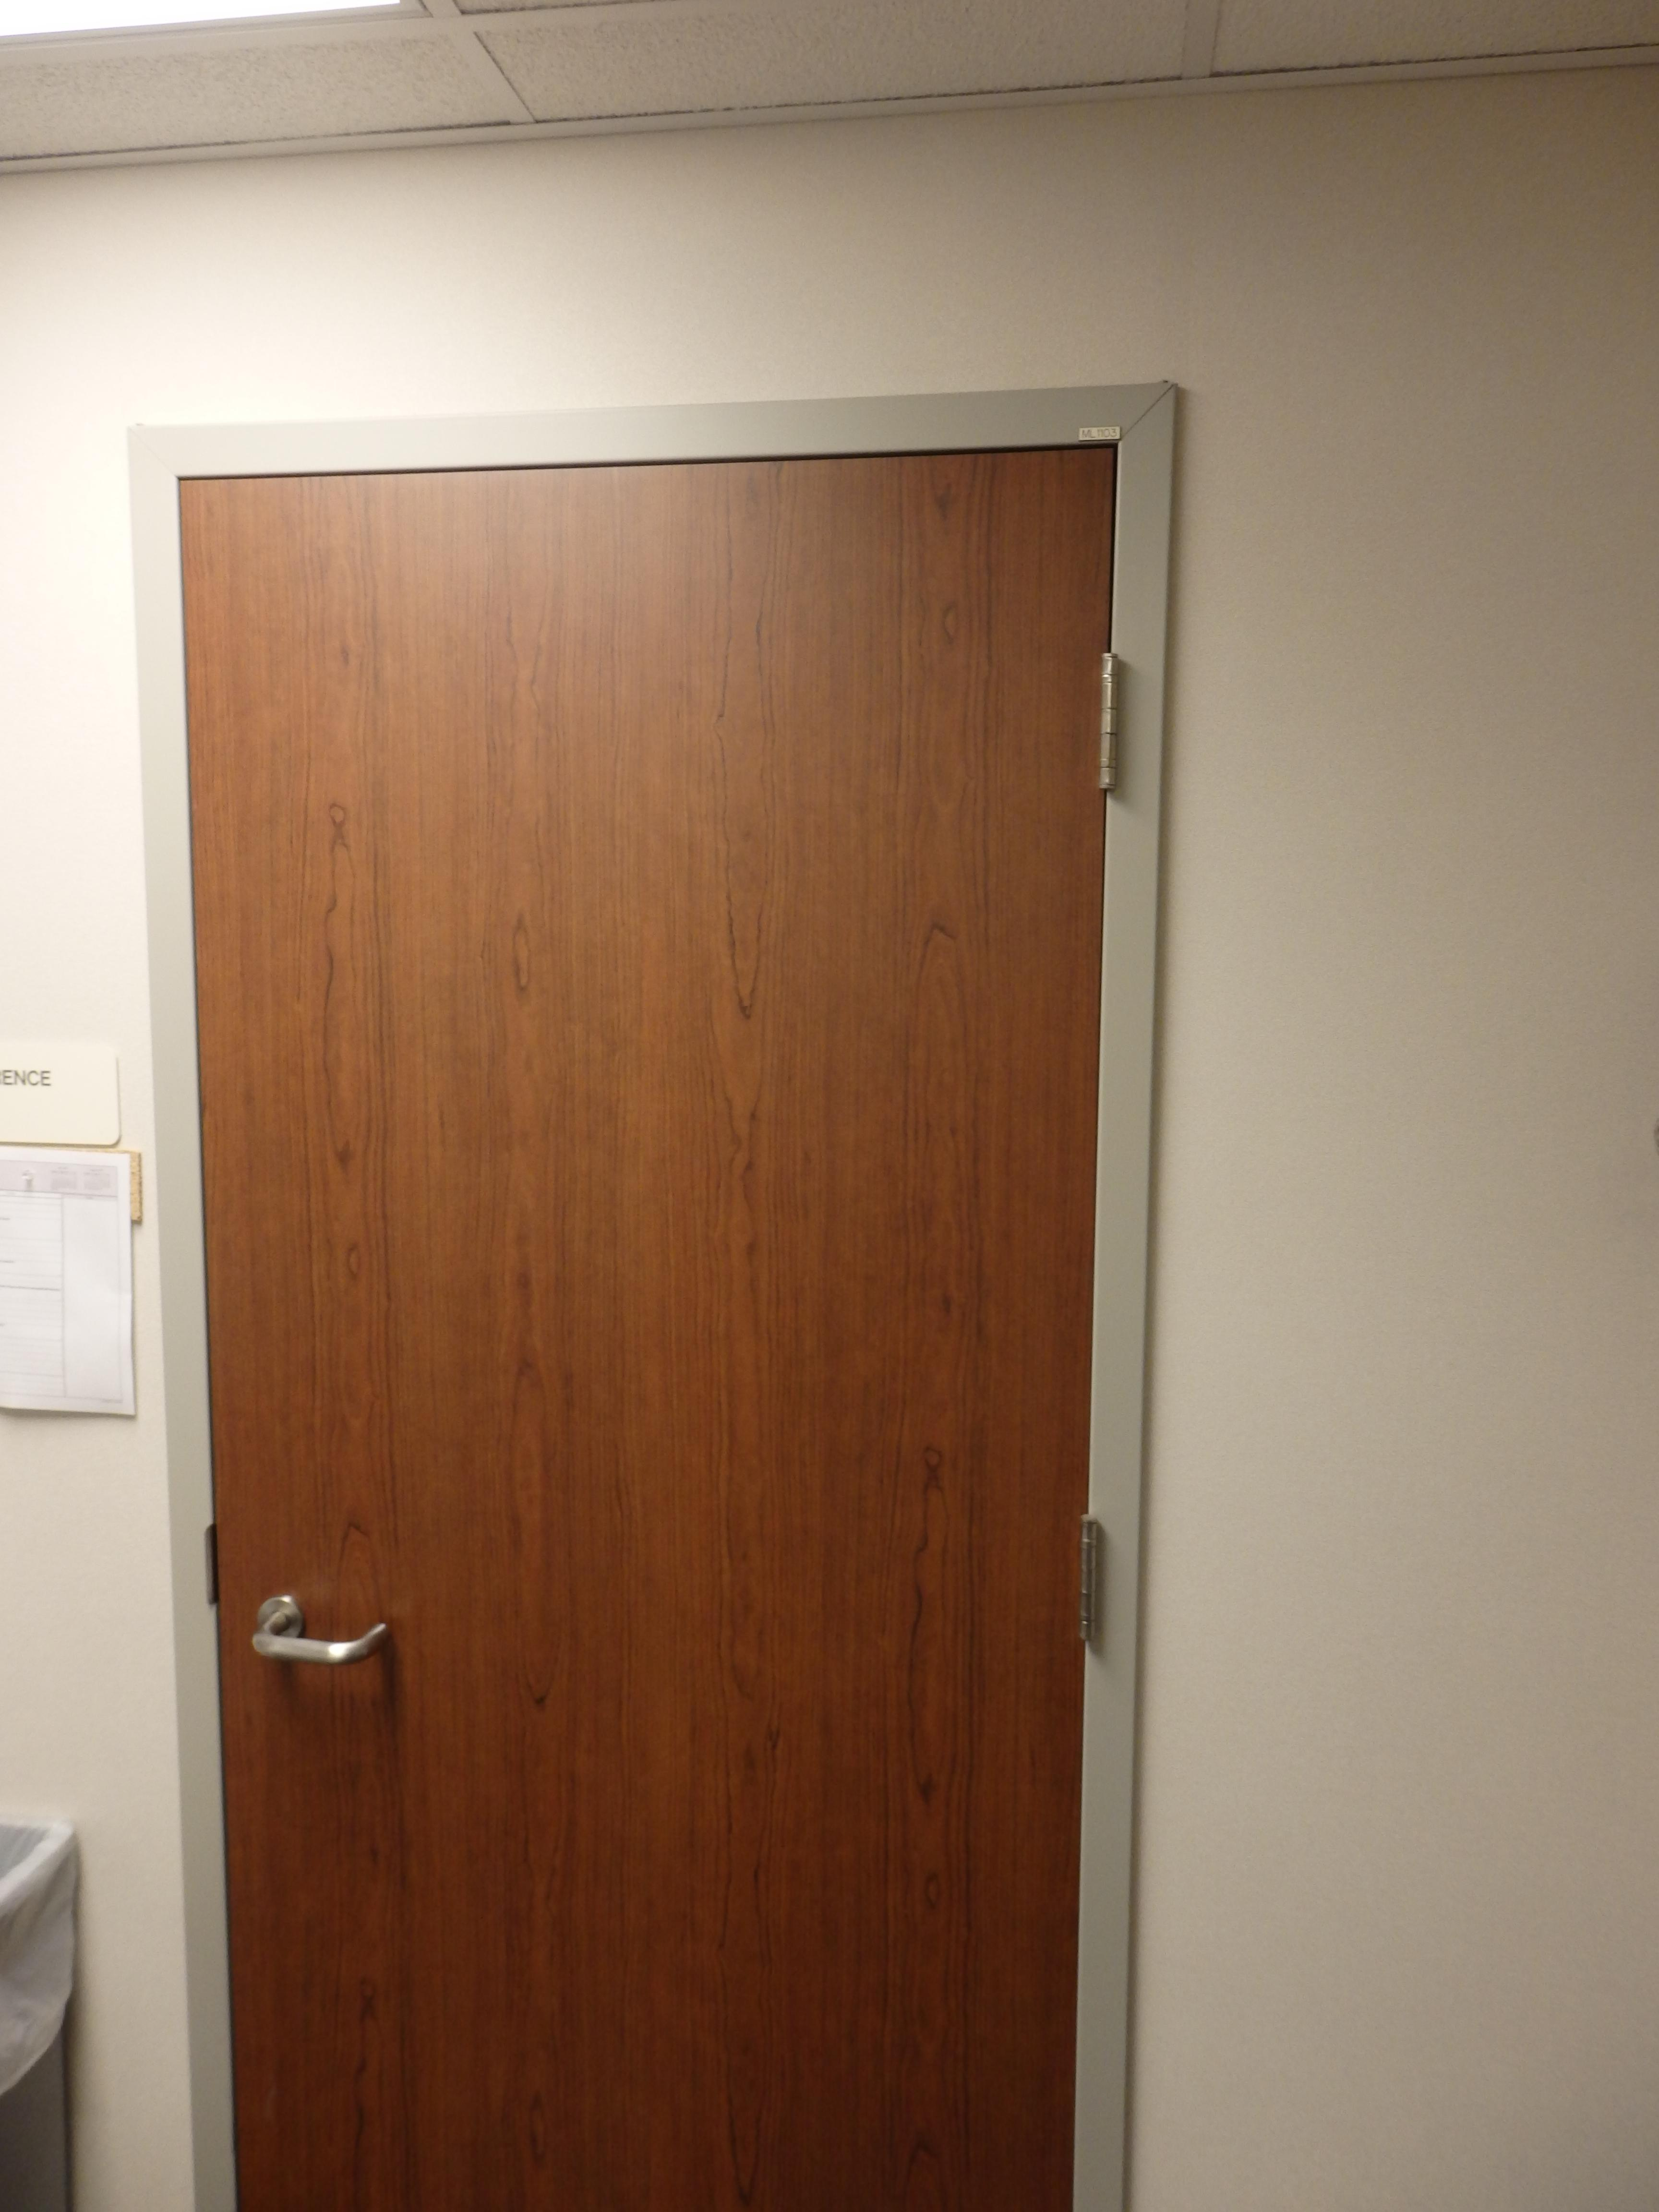door: (200, 488, 1075, 2153)
handle: (244, 1561, 404, 1710)
